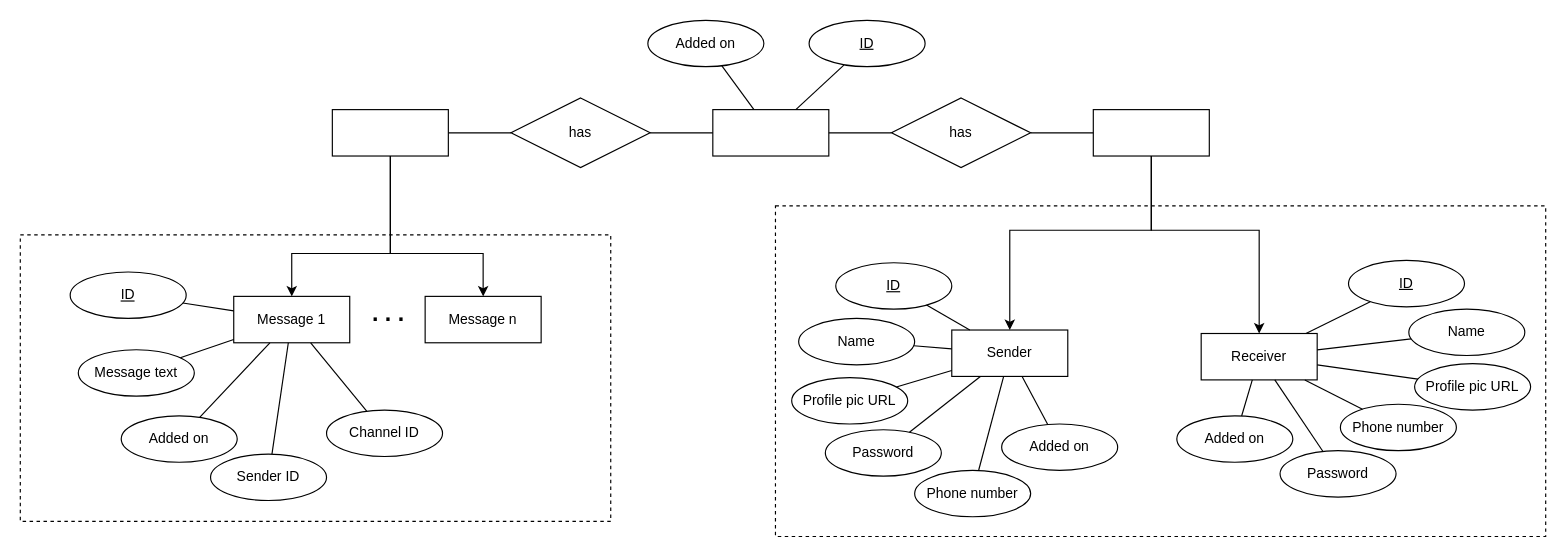
This 1566x557 diagram has some shape labels left out. The centre of each missing label's shape, as x and y in pixels:
"Channel" goes at (x=770, y=132).
"Channel Users" goes at (x=1150, y=132).
"Messages" goes at (x=389, y=132).
